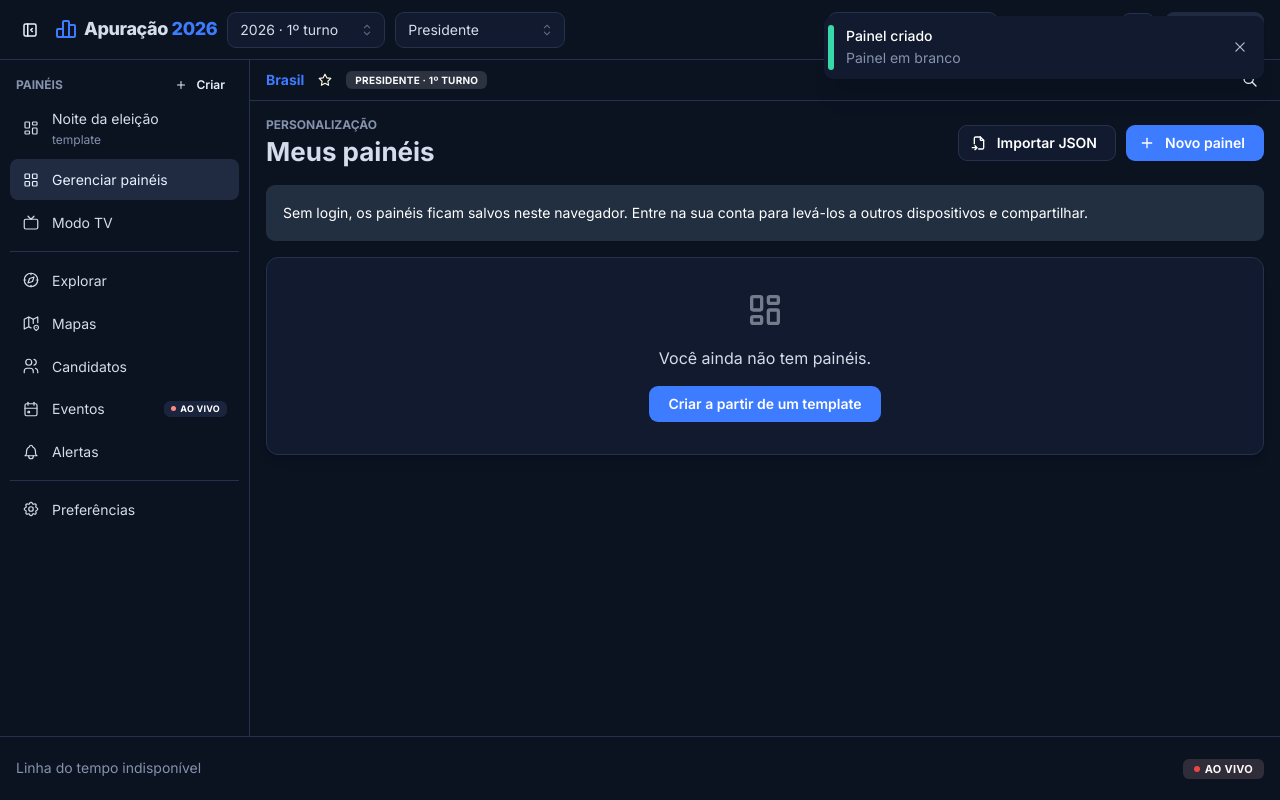
Test: dashboards list › asks for the area a template needs before it creates the dashboard
Click the button "Novo painel" at (1195, 143), box [1126,125,1264,161]
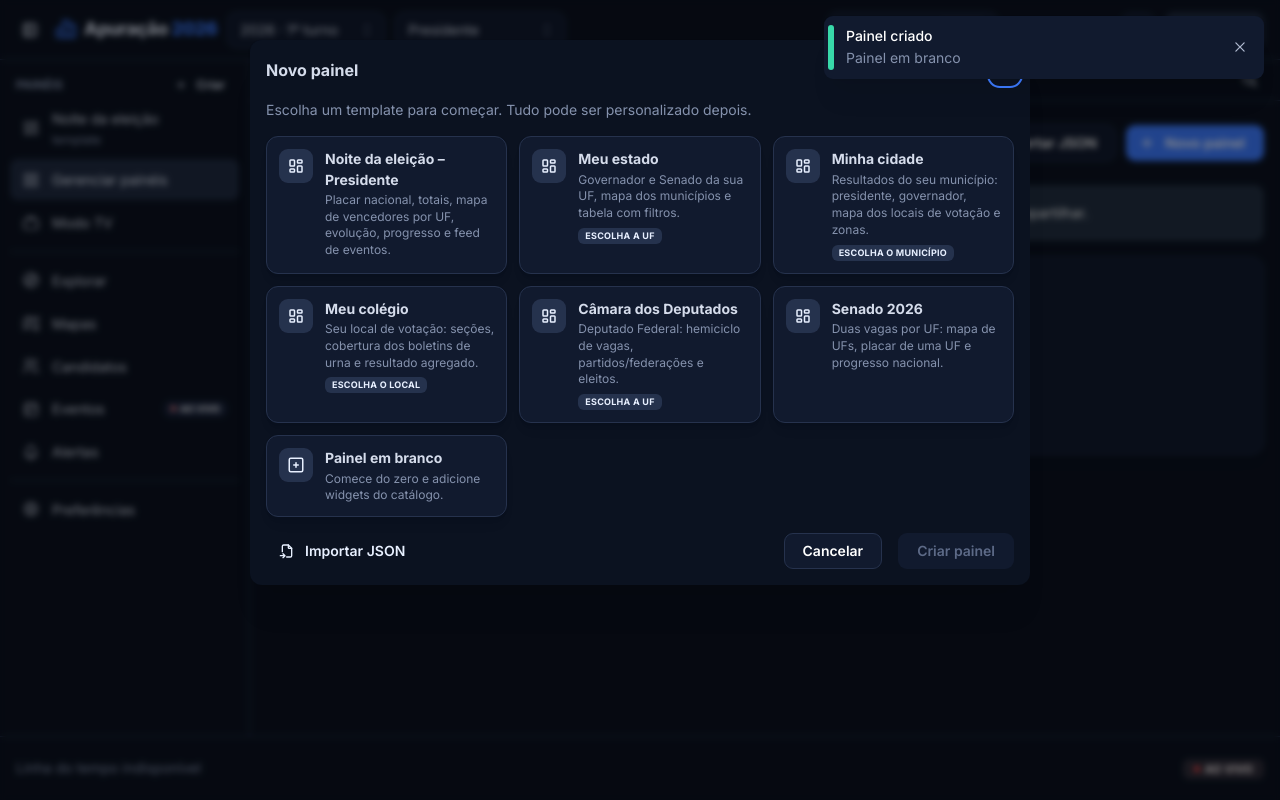
Click the text "Meu estado" at (618, 159), box [578,150,659,167]
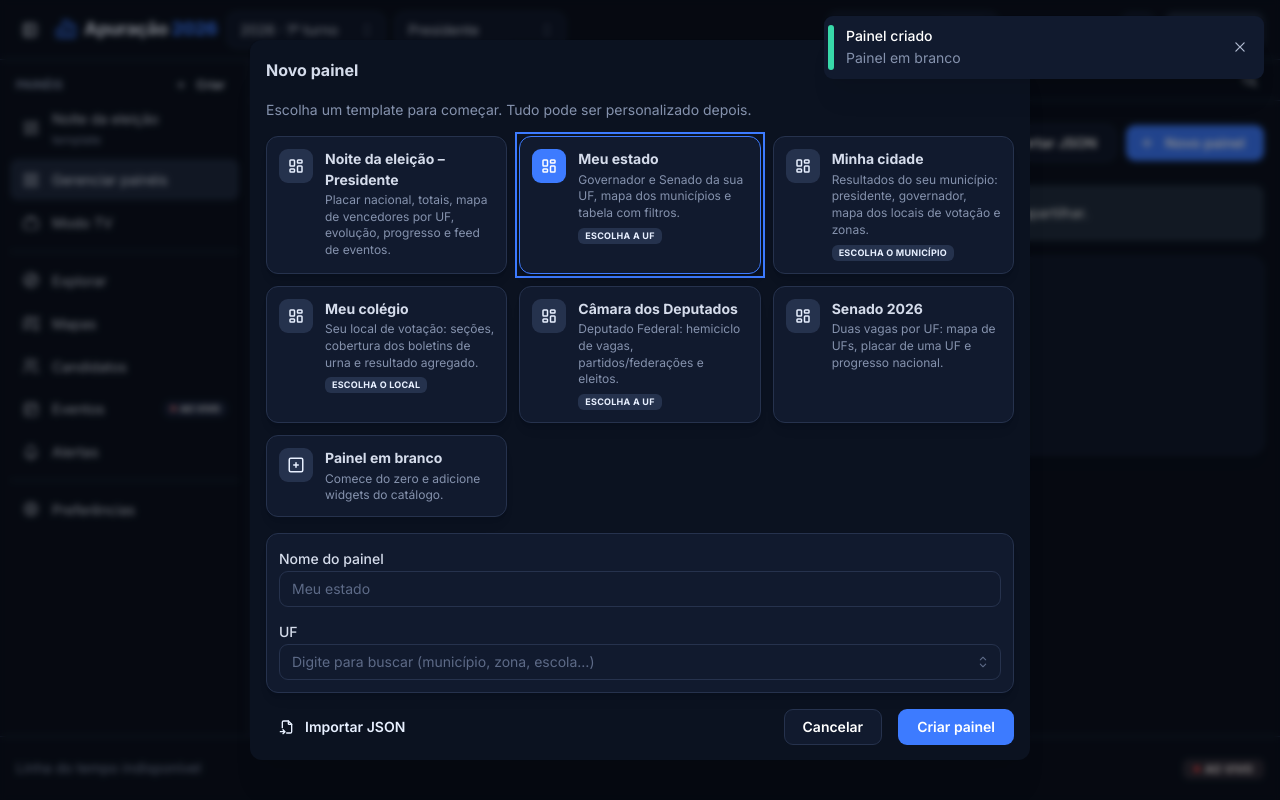
Click the button "Criar painel" at (956, 727), box [898,709,1014,745]
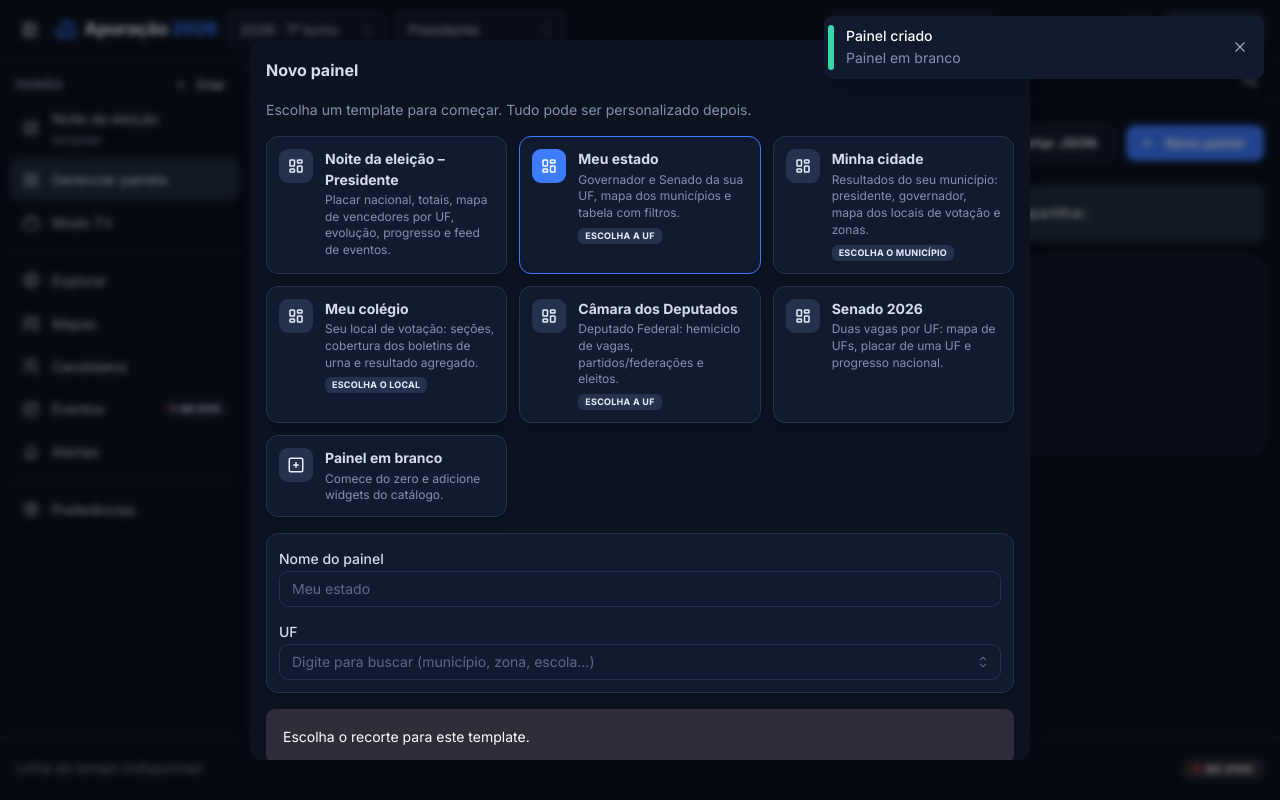
Expected: the text "Escolha o recorte para este template." is shown, [283,728,530,745]
